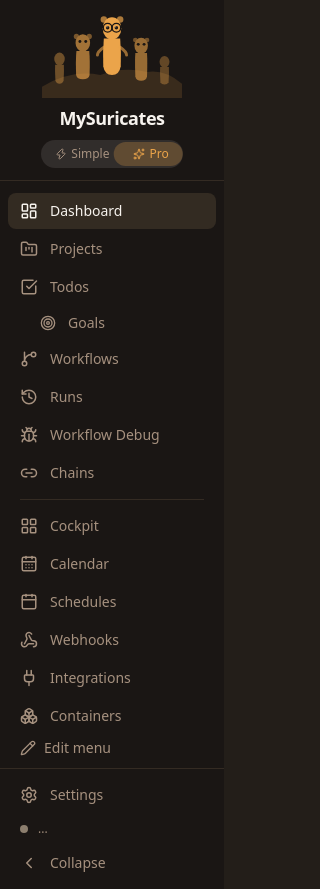
Test case: Sidebar edit controls › labels the edit controls in English
Click the button "Edit menu" at (112, 748), box x1=8 y1=732 x2=216 y2=764
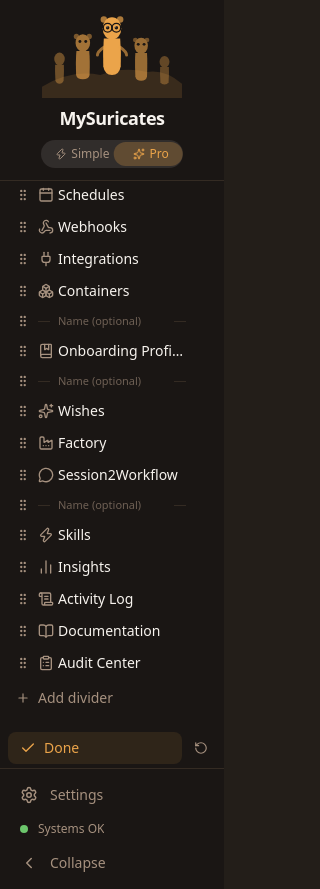
Check: the button with aria-label "Finish editing" reads "Done", box x1=8 y1=732 x2=182 y2=764
Check: the button "Add divider" is shown, box x1=8 y1=682 x2=216 y2=714
Check: the number of fields labelled "Name (optional)" is 4
